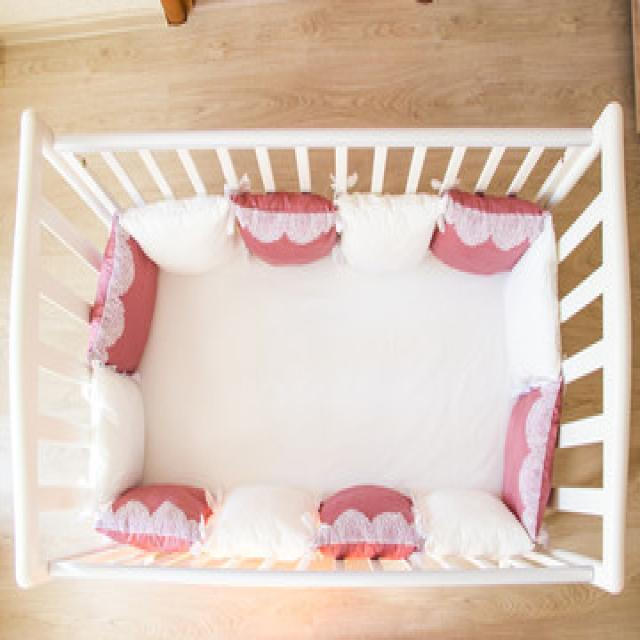crib: (7, 96, 633, 605)
